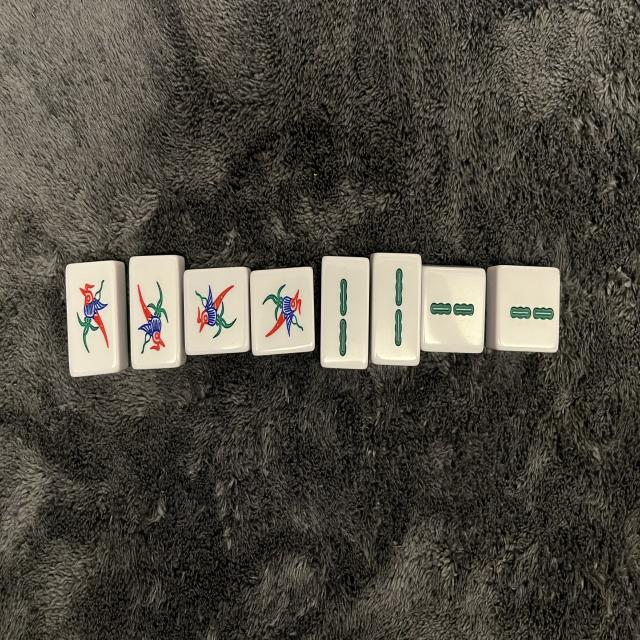s1: (65, 262, 122, 377), (129, 259, 182, 369), (183, 269, 249, 356), (251, 268, 315, 355)
s2: (494, 268, 560, 353), (422, 269, 486, 354), (373, 256, 420, 364), (323, 259, 370, 367)
